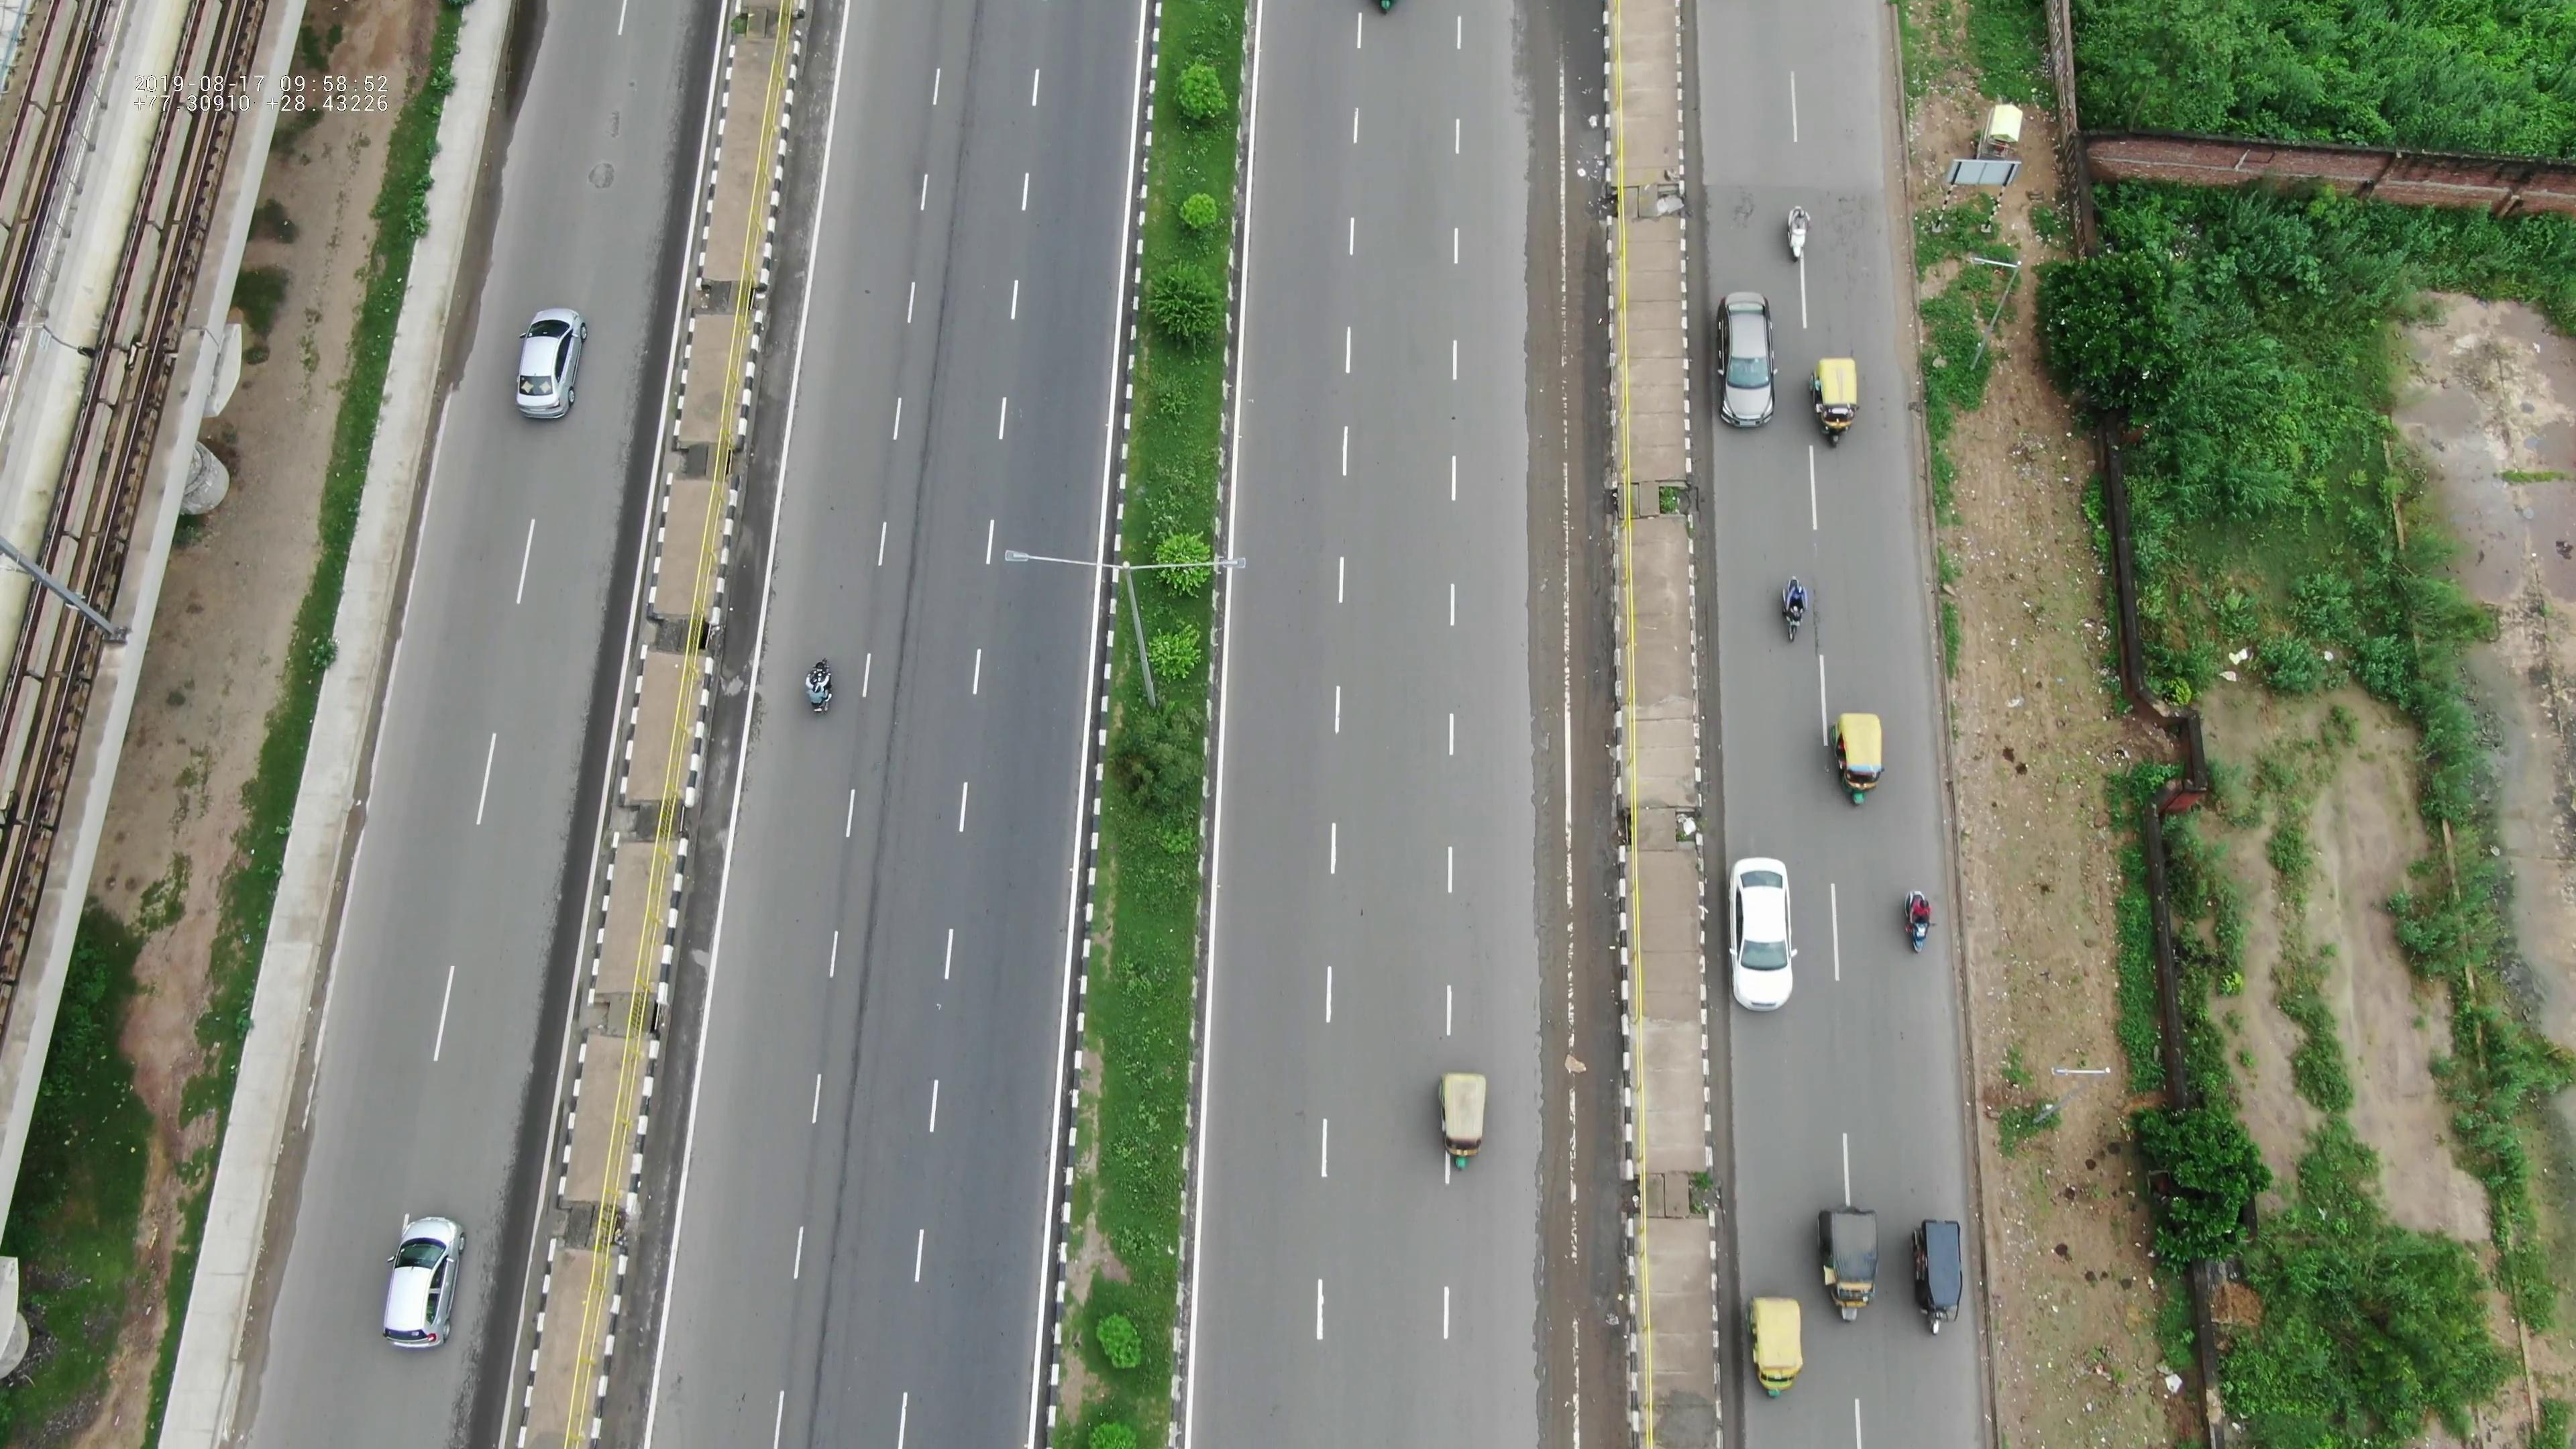Muddy_road: (1516, 423, 1619, 968), (1513, 968, 1621, 1442), (1518, 2, 1608, 425)
